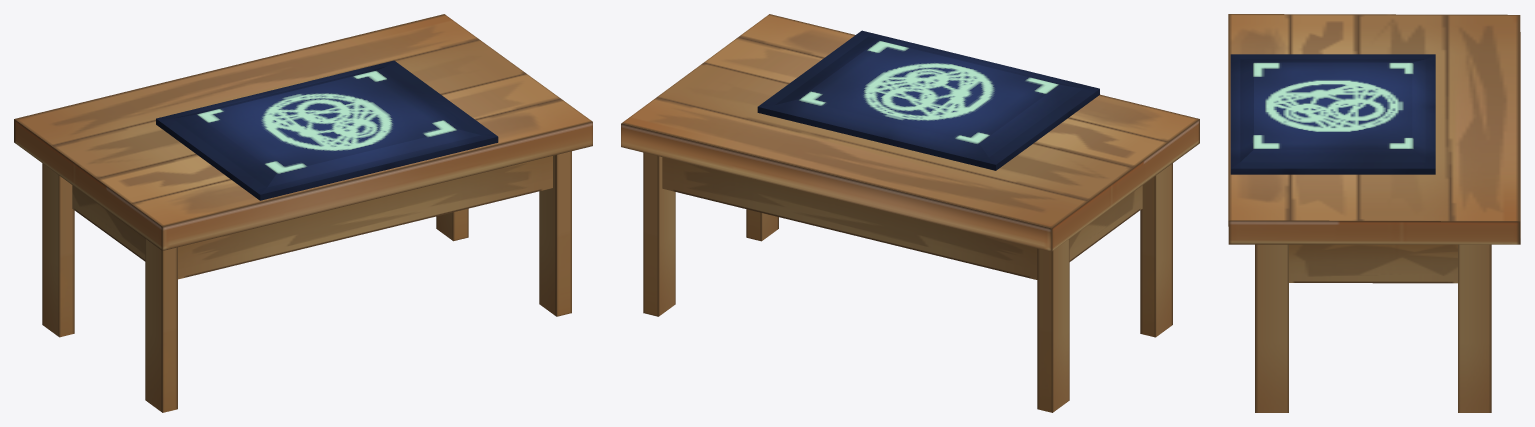
File: object market.FBX
3 views of the same model, side by side, from view 1: azimuth 30°, elevation 25°; view 2: azimuth 150°, elevation 25°; view 3: azimuth 270°, elevation 25° (orthographic).
Visible parts, largest first — view 1: Object101; view 2: Object101; view 3: Object101.
Part boxes in pixels (x1,y1,x2,y2): Object101: (14, 14, 592, 412); Object101: (621, 14, 1199, 412); Object101: (1228, 14, 1520, 412).
Size of the model in its own units: 168 by 78.93 by 100.
